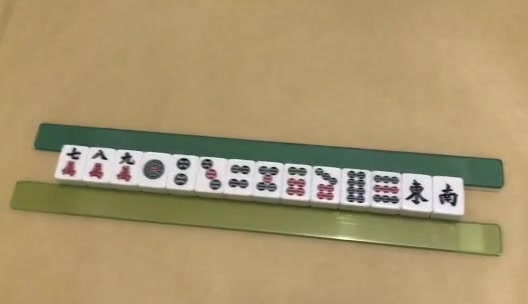1p: (144, 160, 164, 181)
1z: (406, 178, 430, 208)
2p: (172, 158, 191, 185)
2z: (438, 185, 458, 208)
3p: (201, 158, 222, 190)
4p: (228, 163, 249, 189)
5p: (257, 165, 279, 192)
6p: (286, 166, 305, 196)
7m: (58, 147, 80, 179)
7p: (315, 169, 337, 199)
8m: (88, 149, 107, 179)
8p: (347, 171, 366, 204)
9m: (116, 152, 136, 181)
9p: (372, 174, 399, 204)
